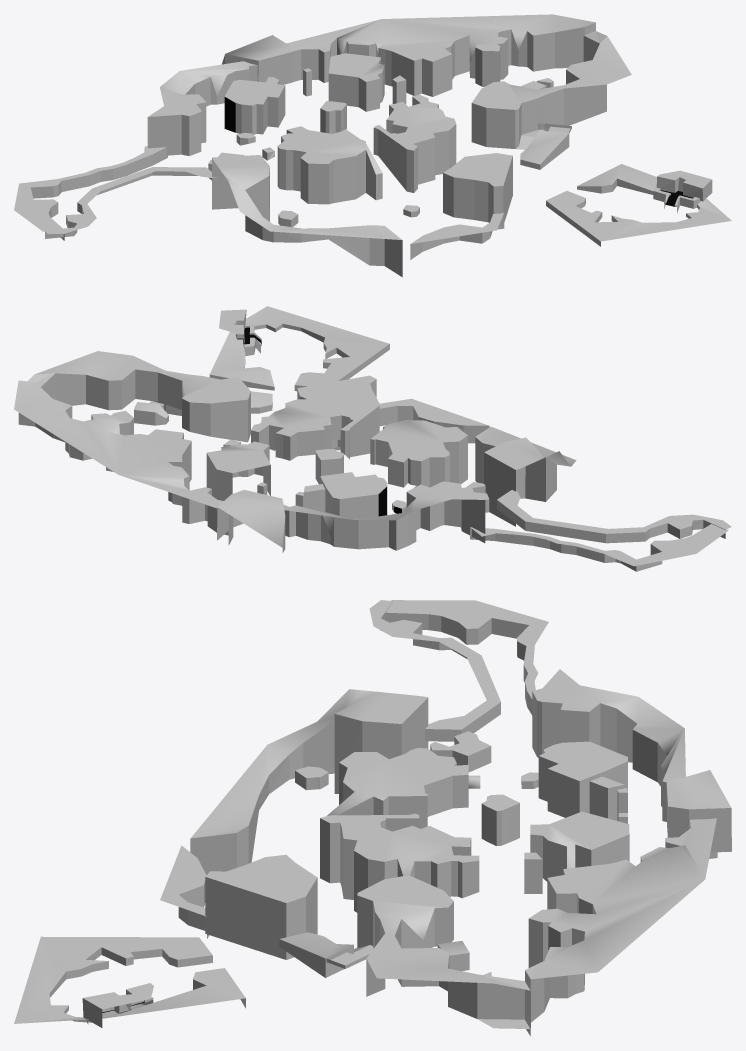
File: collision_terrainwalls.fbx
The picture shows the model from 3 angles, top to bottom: view 1: azimuth 30°, elevation 25°; view 2: azimuth 150°, elevation 25°; view 3: azimuth 270°, elevation 25°; orthographic projection. The views are drawn at different scales.
Visible parts, largest first — view 1: collision_terrainwalls-0; view 2: collision_terrainwalls-0; view 3: collision_terrainwalls-0.
Boxes of the visible parts, x1,y1,x2,y2 form: collision_terrainwalls-0: (14, 14, 731, 277); collision_terrainwalls-0: (14, 306, 731, 571); collision_terrainwalls-0: (14, 600, 731, 1035).
Bounding box in the file's own units: 116 × 17.68 × 84.57.
